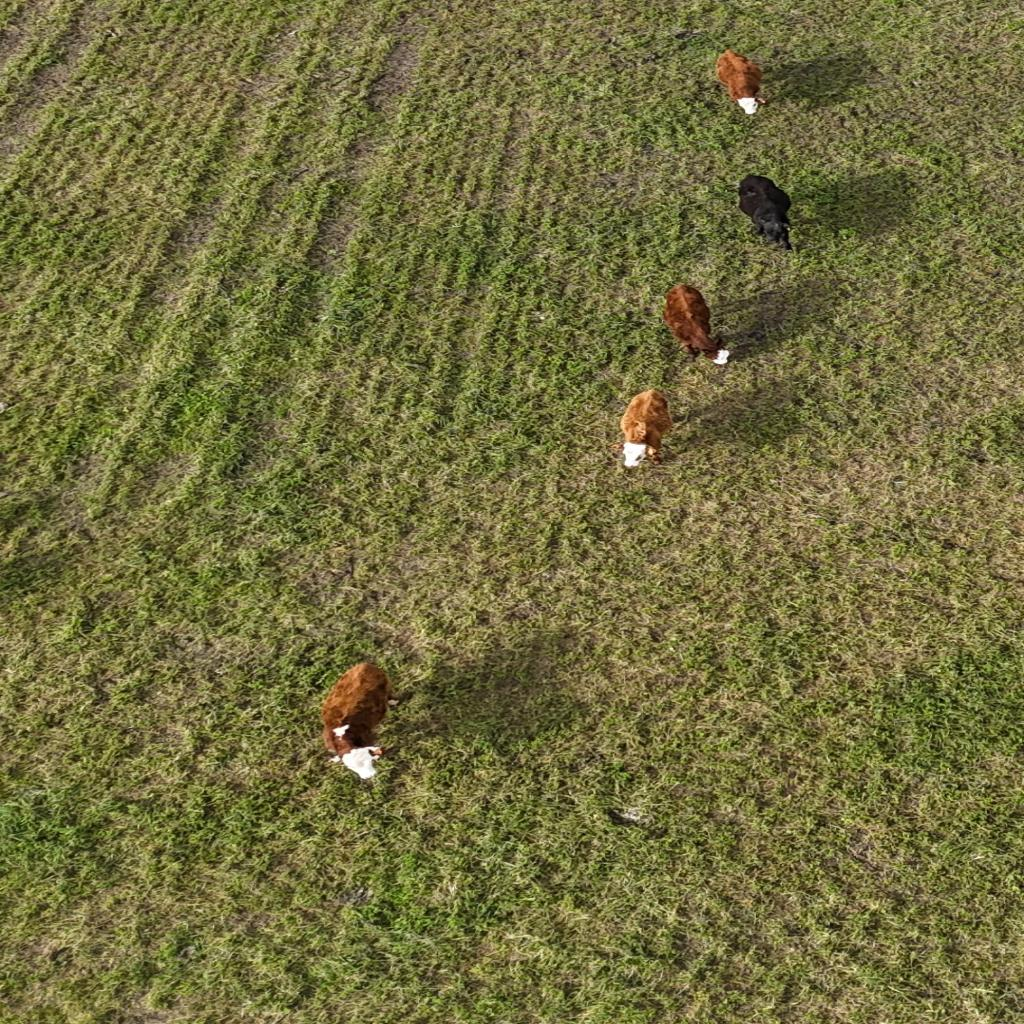cow: (312, 660, 400, 782), (660, 282, 732, 366), (737, 176, 797, 253), (617, 390, 676, 468), (715, 50, 770, 117)
